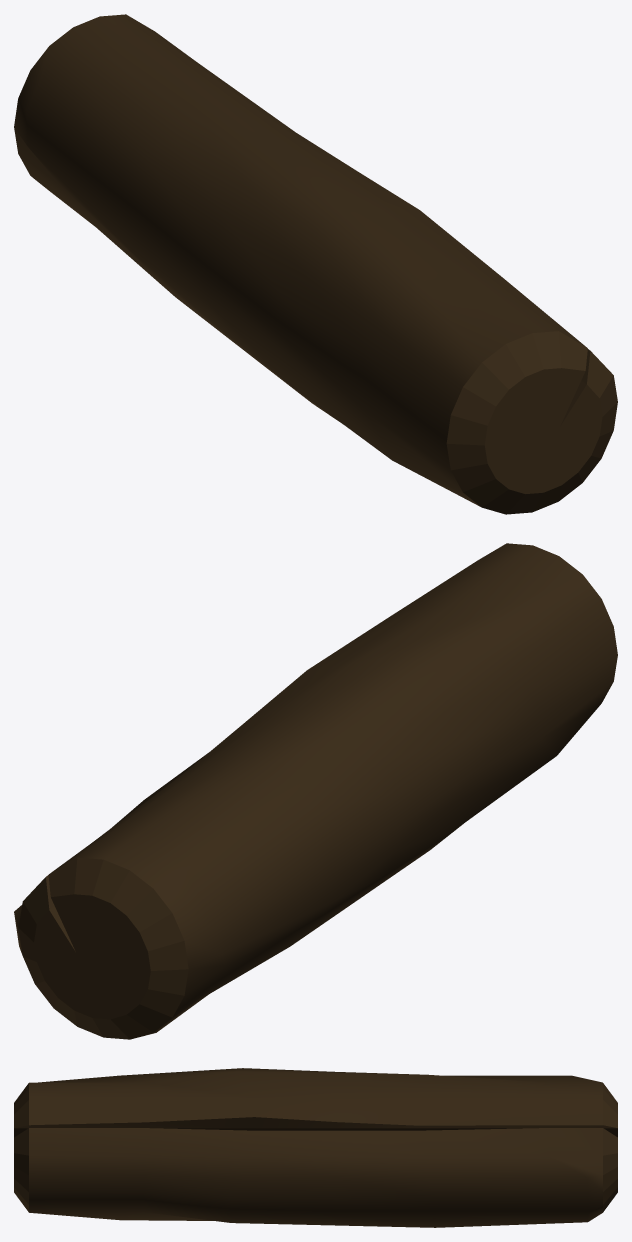
File: tronco.fbx
3 views of the same model, one above another, from view 1: azimuth 30°, elevation 25°; view 2: azimuth 150°, elevation 25°; view 3: azimuth 270°, elevation 25° (orthographic). The views are drawn at different scales.
Parts seen in each view (by area): view 1: pCylinder1; view 2: pCylinder1; view 3: pCylinder1.
Part boxes in pixels (x1,y1,x2,y2): pCylinder1: [14, 14, 617, 514]; pCylinder1: [14, 543, 617, 1039]; pCylinder1: [14, 1068, 617, 1227].
Bounding box in the file's own units: 1.06 × 1.03 × 4.15.
